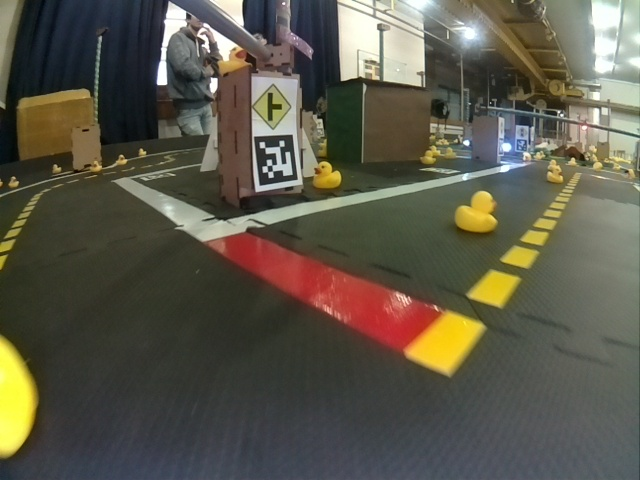Duckie: (455, 192, 495, 232), (313, 162, 339, 188), (420, 151, 436, 164)
Intersection sign: (254, 80, 294, 125)
QR code: (254, 135, 300, 187), (420, 168, 460, 176)
